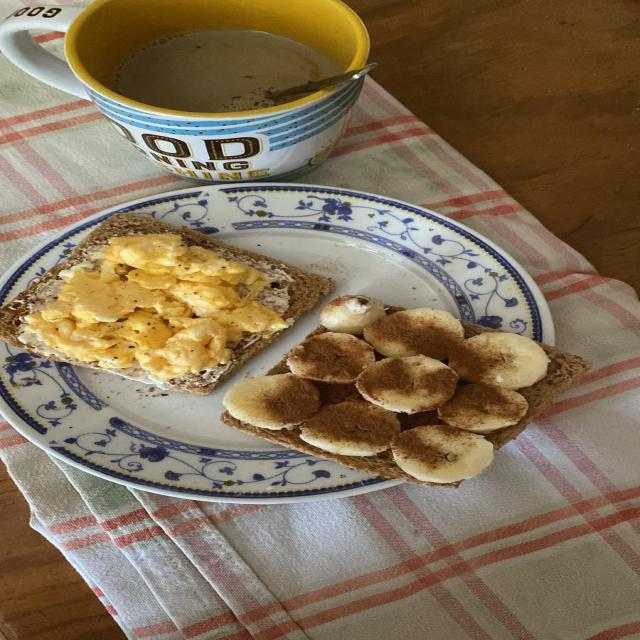banana: (225, 296, 552, 480)
coffee: (106, 29, 341, 112)
coffee cup: (65, 0, 375, 182)
plate: (0, 184, 554, 504)
scrambled eggs: (20, 234, 289, 382)
spoon: (269, 64, 375, 103)
toasted bread: (0, 213, 334, 347), (485, 344, 589, 450), (171, 333, 279, 394), (225, 420, 329, 458), (342, 451, 400, 479)
